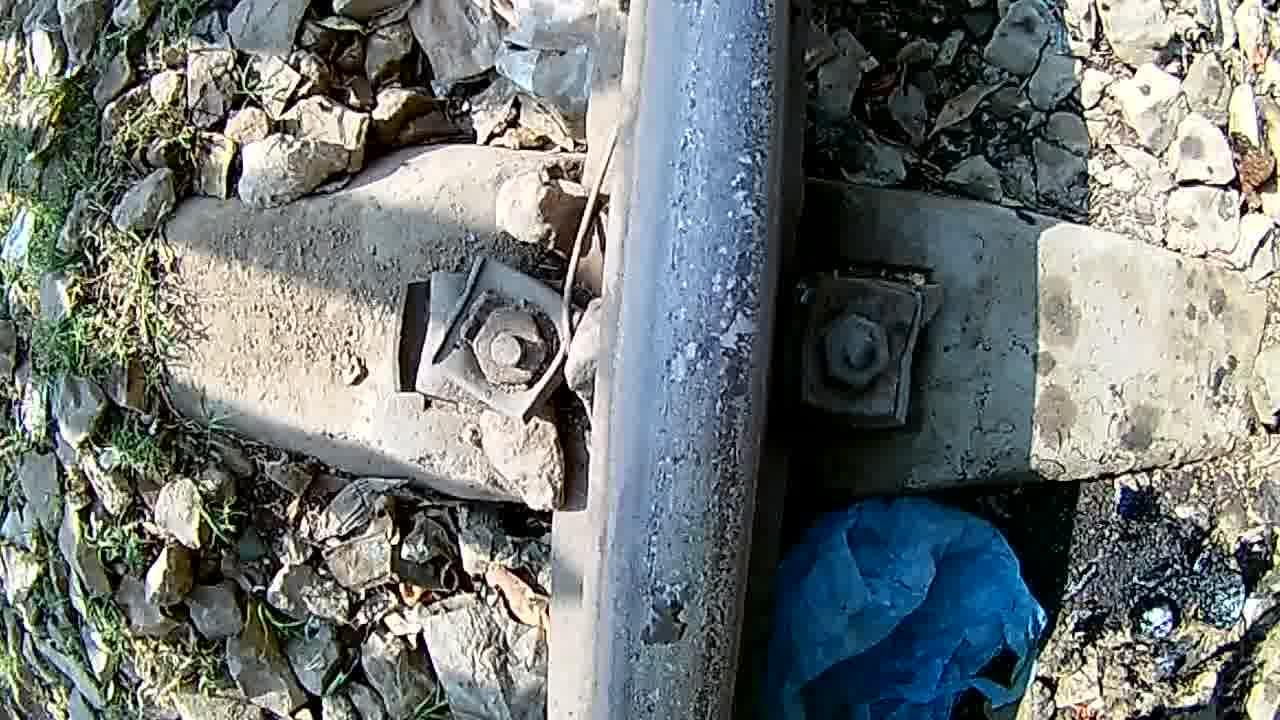crack: (606, 3, 782, 720)
